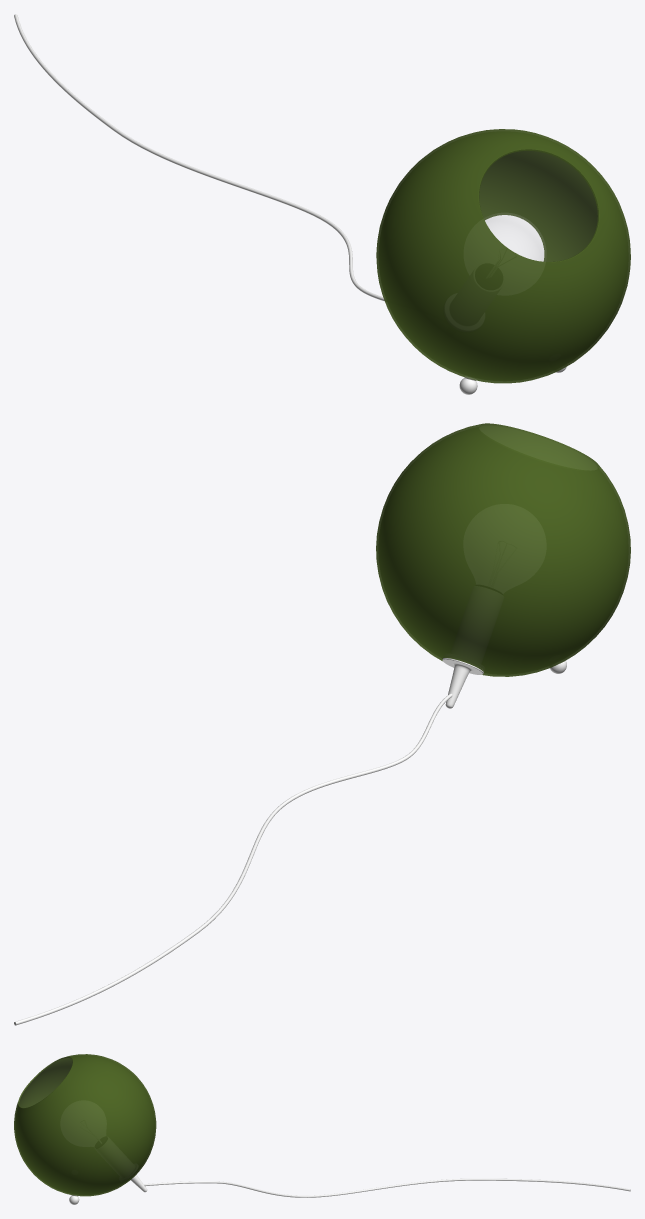
File: Lyktan_Bankeryd_Hollie_20_mat(3).fbx
3 renders of one model, top to bottom at view 1: azimuth 30°, elevation 25°; view 2: azimuth 150°, elevation 25°; view 3: azimuth 270°, elevation 25°, orthographic. The views are drawn at different scales.
Parts seen in each view (by area): view 1: Lyktan_Bankeryd_Hollie_20_mat3; view 2: Lyktan_Bankeryd_Hollie_20_mat3; view 3: Lyktan_Bankeryd_Hollie_20_mat3.
Boxes of the visible parts, x1,y1,x2,y2 form: Lyktan_Bankeryd_Hollie_20_mat3: (14,14,630,394); Lyktan_Bankeryd_Hollie_20_mat3: (14,423,630,1025); Lyktan_Bankeryd_Hollie_20_mat3: (14,1054,630,1204).
Size of the model in its own units: 20 by 86.66 by 20.37.
